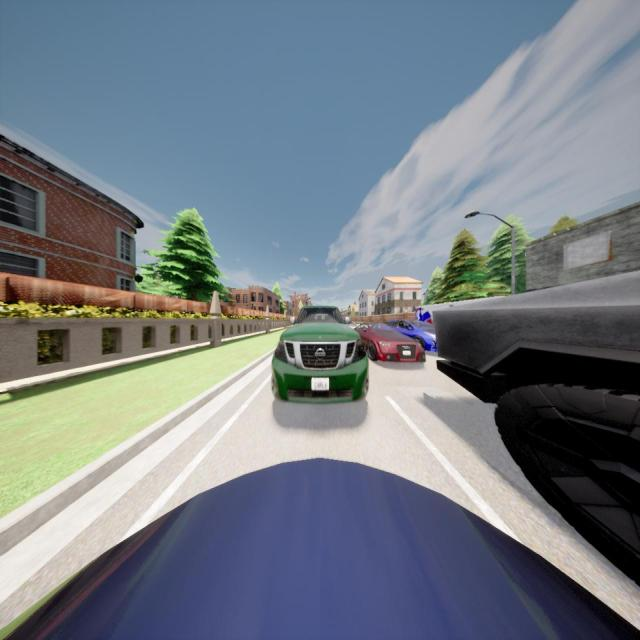Vehicle: (0, 458, 640, 640), (432, 271, 640, 587), (272, 306, 368, 401), (352, 323, 427, 365), (416, 296, 500, 322), (386, 320, 437, 352)
